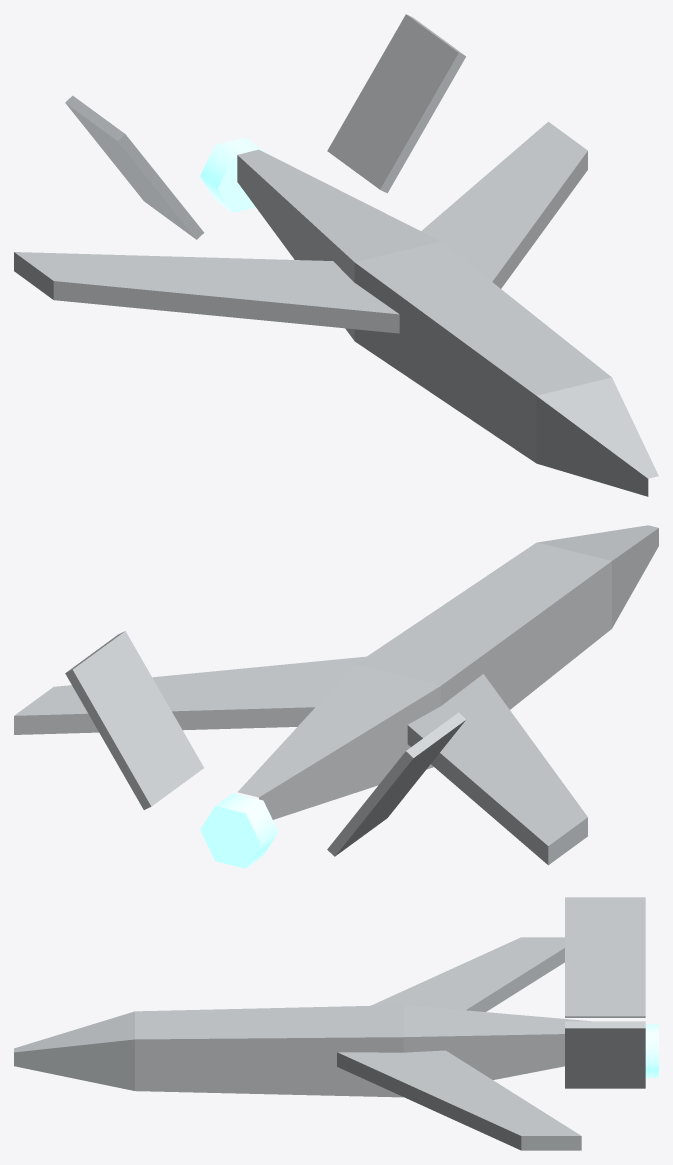
File: veh_air_drone_recon_a09_lod2.glb
3 views of the same model, one above another, from view 1: azimuth 30°, elevation 25°; view 2: azimuth 150°, elevation 25°; view 3: azimuth 270°, elevation 25° (orthographic). The views are drawn at different scales.
Parts seen in each view (by area): view 1: body; view 2: body; view 3: body.
Boxes of the visible parts, <box> form: body: <box>14,14,658,496</box>; body: <box>14,525,658,868</box>; body: <box>14,897,658,1150</box>.
Size of the model in its own units: 3.5 by 1 by 4.8.
